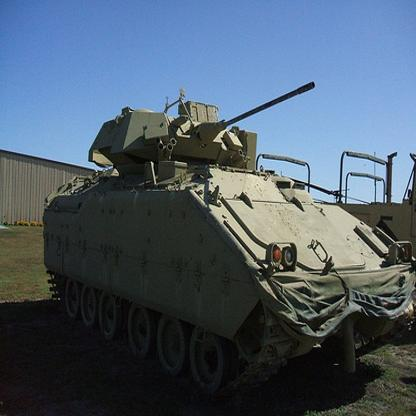Tank: (40, 77, 416, 400)
